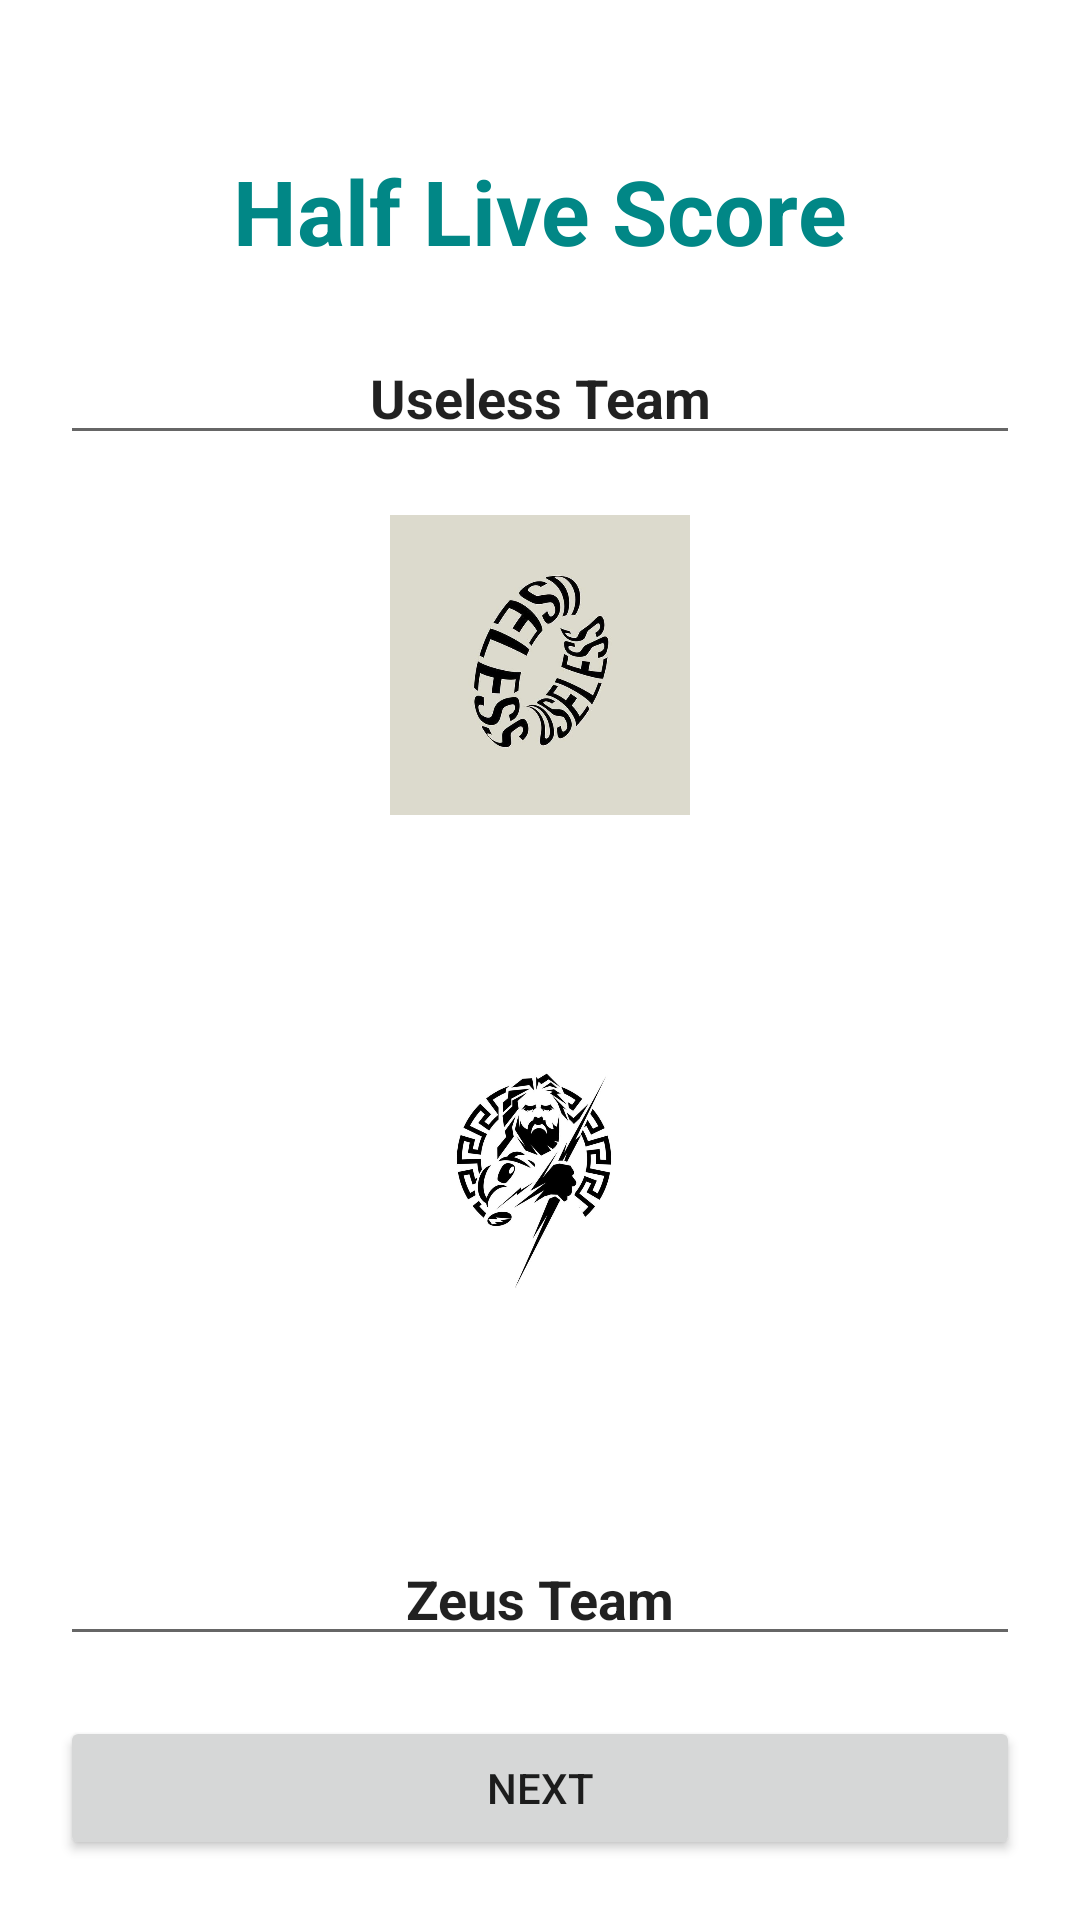

Locate icon controls on the screen. Image size 1080*1920, boxes as (x1, y1, x2, y2).
zeus: (457, 1073, 611, 1288)
